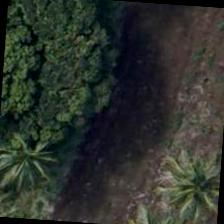Kelapa_Sawit: (0, 109, 73, 205), (152, 141, 223, 223)
